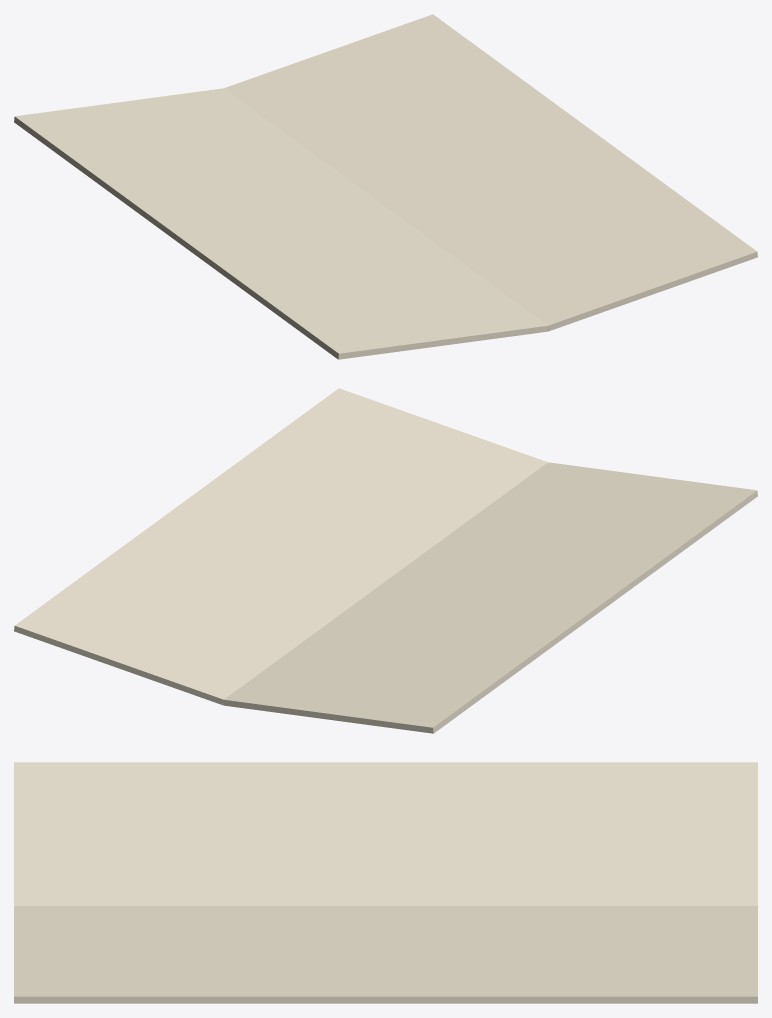
File: Prop_Prescription.fbx
3 views of the same model, one above another, from view 1: azimuth 30°, elevation 25°; view 2: azimuth 150°, elevation 25°; view 3: azimuth 270°, elevation 25° (orthographic). The views are drawn at different scales.
Visible parts, largest first — view 1: Prescription_Paper; view 2: Prescription_Paper; view 3: Prescription_Paper.
Part boxes in pixels (x1,y1,x2,y2): Prescription_Paper: [14, 14, 757, 359]; Prescription_Paper: [14, 388, 757, 733]; Prescription_Paper: [14, 762, 757, 1003].
Bounding box in the file's own units: 0.0896 × 0.0059 × 0.12.
